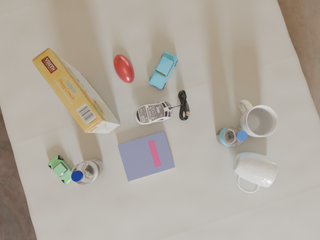book: (118, 131, 175, 181)
bottle: (71, 159, 104, 185), (217, 126, 247, 146)
box: (32, 48, 120, 133)
cup: (233, 152, 278, 193), (239, 100, 278, 137)
mouse: (135, 101, 174, 124), (114, 55, 134, 83)
toy_car: (149, 52, 178, 89), (48, 155, 72, 184)
